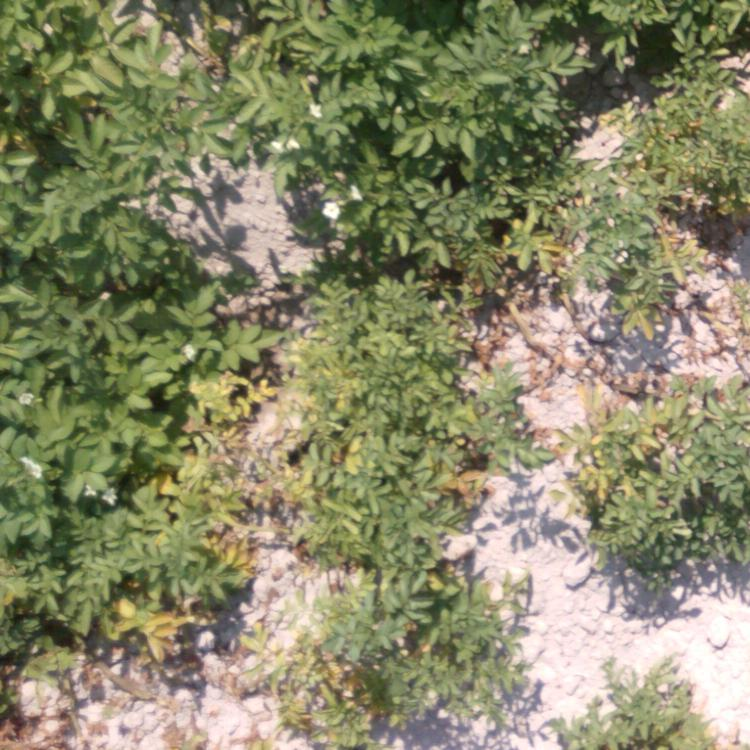healthy: (1, 397, 370, 746), (1, 1, 400, 137), (1, 274, 386, 396), (1, 141, 325, 271), (614, 286, 750, 420), (655, 425, 750, 580)
stressed: (388, 160, 611, 428), (469, 1, 739, 164), (372, 556, 588, 748), (366, 431, 647, 553), (590, 662, 703, 750)
